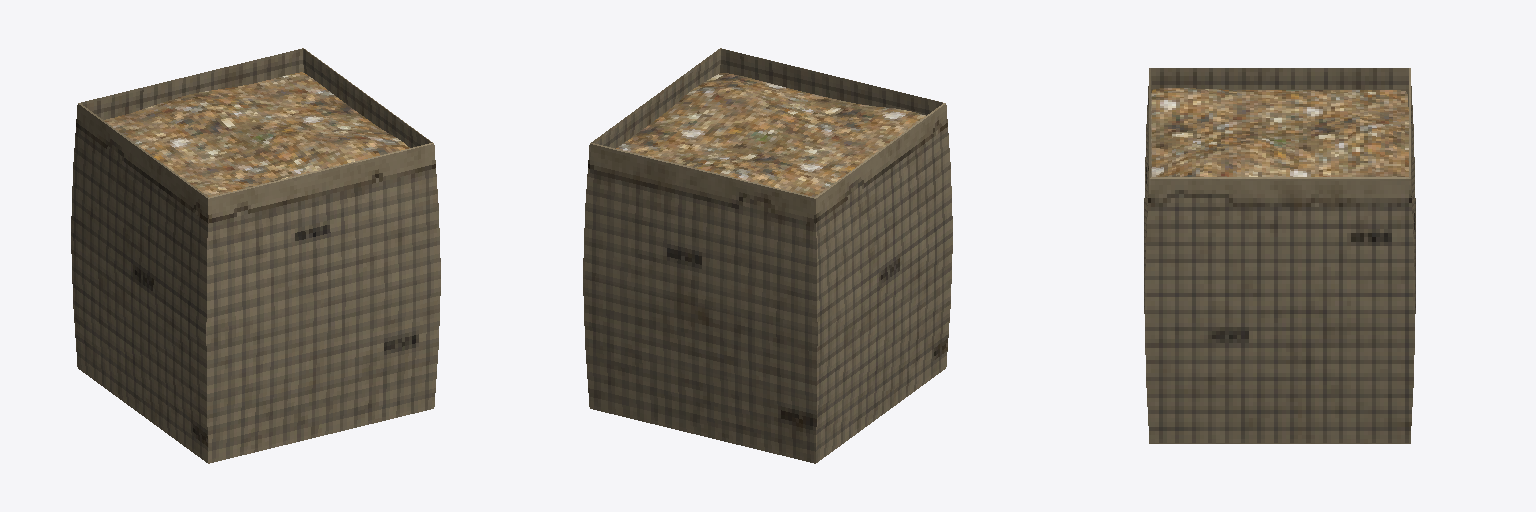
3 renders of one model, left to right at view 1: azimuth 30°, elevation 25°; view 2: azimuth 150°, elevation 25°; view 3: azimuth 270°, elevation 25°, orthographic.
Parts seen in each view (by area): view 1: defaultMaterial_defaultMaterial.001; view 2: defaultMaterial_defaultMaterial.001; view 3: defaultMaterial_defaultMaterial.001.
Boxes of the visible parts, <box> form: defaultMaterial_defaultMaterial.001: <box>71,48,440,463</box>; defaultMaterial_defaultMaterial.001: <box>583,48,952,463</box>; defaultMaterial_defaultMaterial.001: <box>1144,68,1415,443</box>.
Bounding box in the file's own units: 0.9113 × 0.9878 × 0.9113.
1 materials, 1 textured.